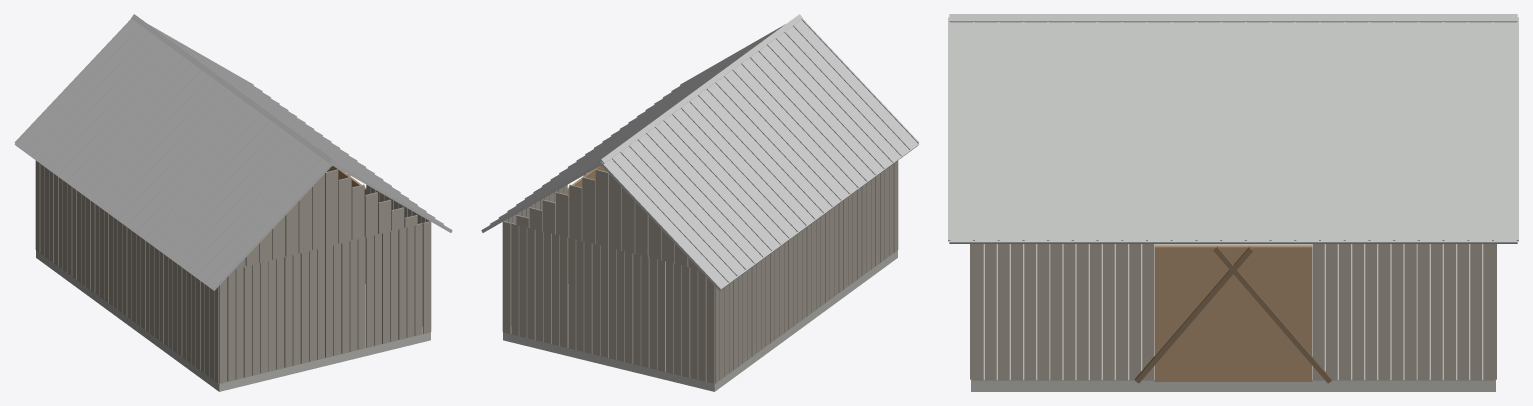
Rendered from Stodola.fbx.
3 views of the same model, side by side, from view 1: azimuth 30°, elevation 25°; view 2: azimuth 150°, elevation 25°; view 3: azimuth 270°, elevation 25° (orthographic). The views are drawn at different scales.
Parts seen in each view (by area): view 1: Stodola; view 2: Stodola; view 3: Stodola.
Part boxes in pixels (<box>): Stodola: <box>14,14,452,391</box>; Stodola: <box>481,14,919,391</box>; Stodola: <box>948,14,1518,391</box>.
Bounding box in the file's own units: 9.05 × 7.67 × 13.05.
